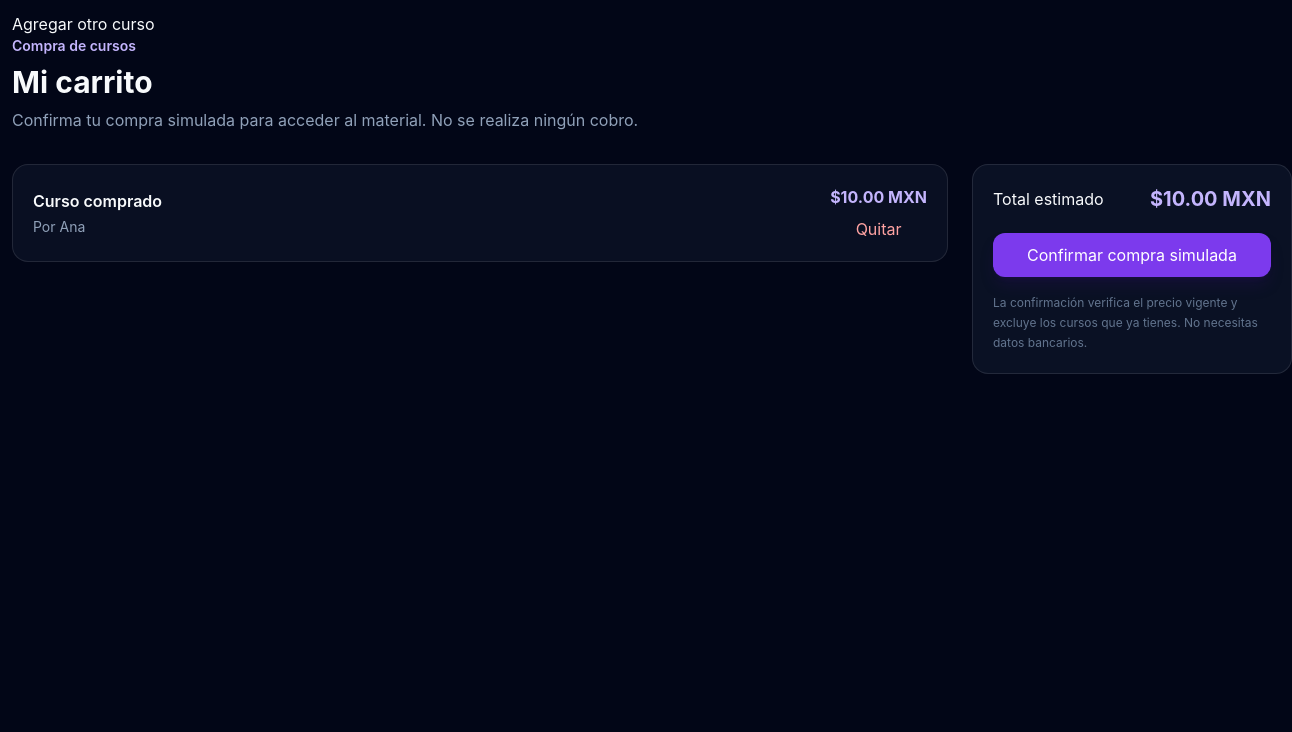
Test: confirmación de compra simulada › confirma, actualiza la biblioteca de la cuenta, vacía el carrito y abre el material
The width and height of the screenshot is (1292, 732).
Step 1. Click the button "Confirmar compra simulada" → coordinates (1132, 255), box [993, 233, 1271, 277]
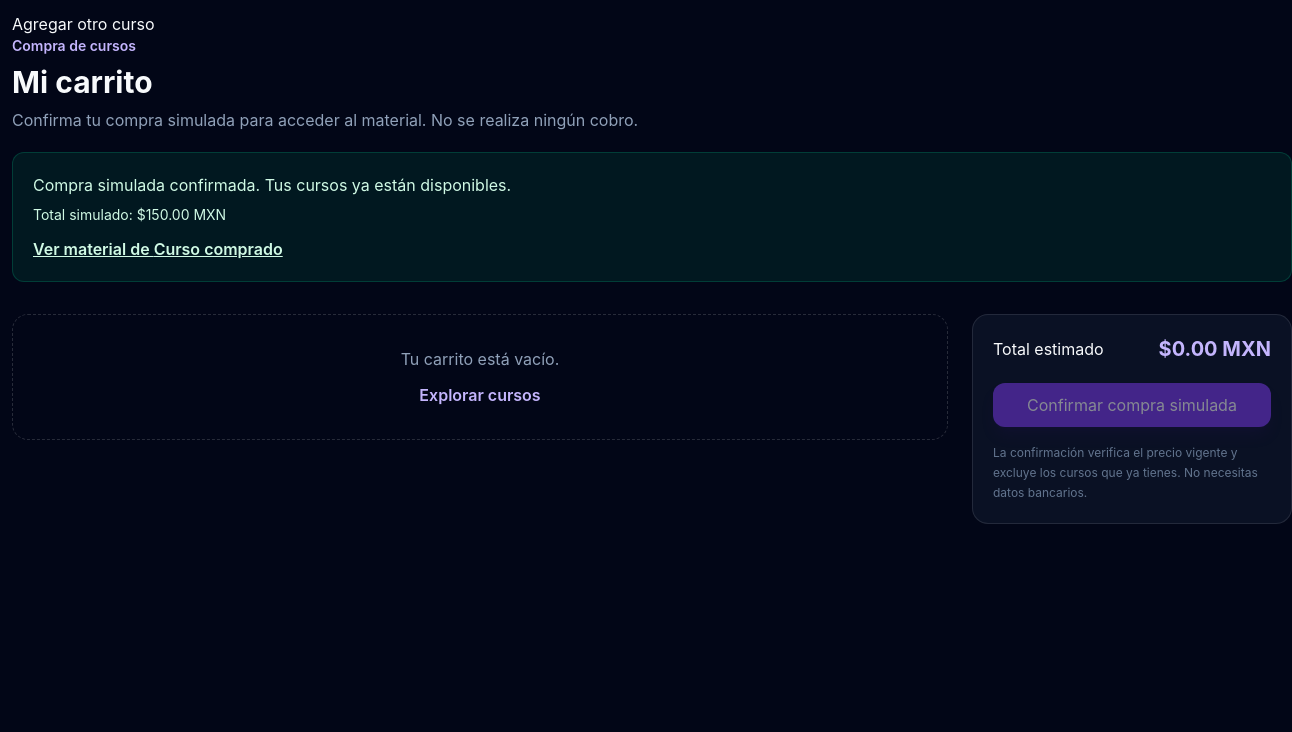
expect the text "Compra simulada confirmada. Tus cursos ya están disponibles." is shown: met, box [33, 175, 511, 195]
